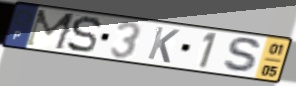1: (199, 31, 219, 71)
3: (109, 20, 145, 62)
K: (145, 25, 182, 65)
M: (23, 8, 79, 52)
S: (221, 36, 264, 75), (65, 15, 104, 55)
